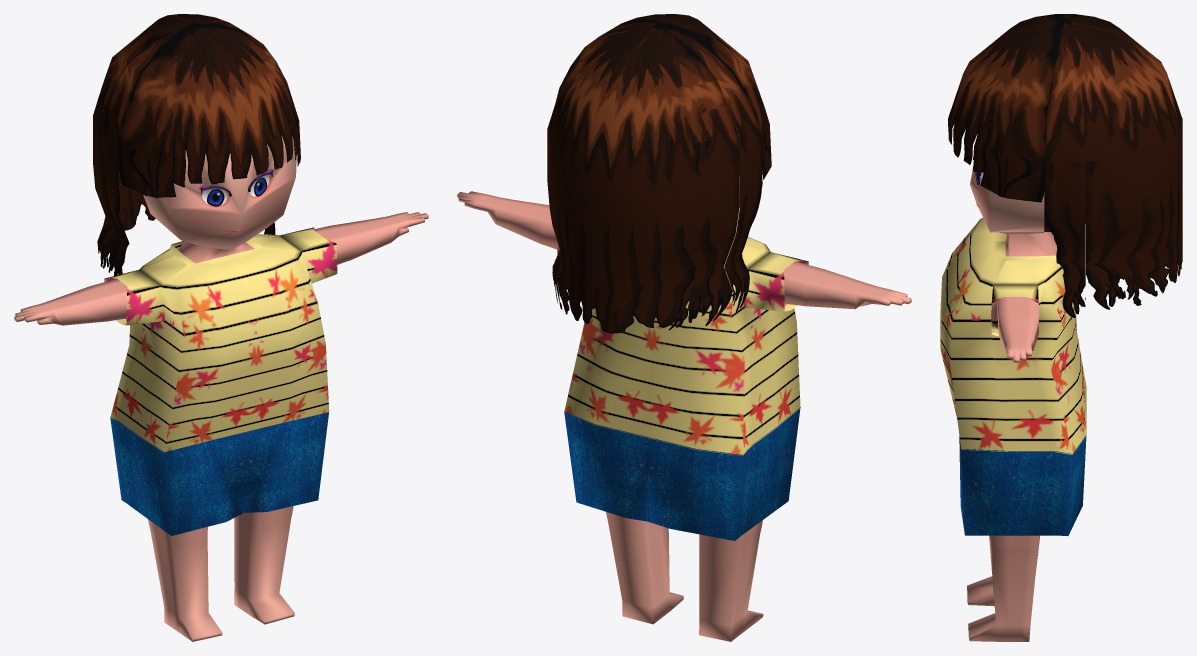
The model's file is 基本Q版女角模型第三版測試.fbx.
3 views of the same model, side by side, from view 1: azimuth 30°, elevation 25°; view 2: azimuth 150°, elevation 25°; view 3: azimuth 270°, elevation 25° (orthographic). The views are drawn at different scales.
Parts seen in each view (by area): view 1: 衣服, 頭髮, 身體, 褲子; view 2: 頭髮, 衣服, 褲子, 身體; view 3: 頭髮, 衣服, 身體, 褲子.
Part boxes in pixels (x1,y1,x2,y2): 衣服: [104, 227, 337, 452]; 頭髮: [93, 14, 300, 275]; 身體: [14, 136, 428, 641]; 褲子: [110, 412, 328, 535]; 頭髮: [547, 14, 771, 333]; 衣服: [557, 232, 808, 455]; 褲子: [564, 407, 800, 540]; 身體: [457, 170, 911, 641]; 頭髮: [948, 14, 1182, 317]; 衣服: [940, 218, 1086, 454]; 身體: [967, 156, 1085, 641]; 褲子: [959, 386, 1086, 535].
Bounding box in the file's own units: 324 × 428 × 158.
